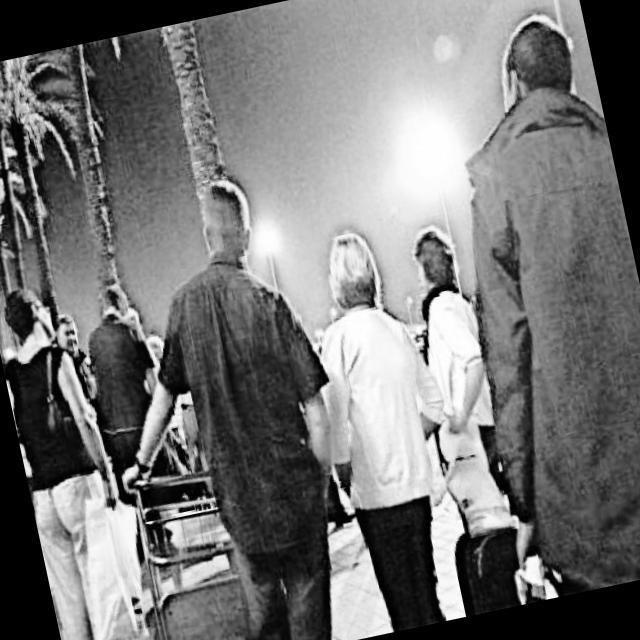Person: (64, 160, 379, 640), (409, 0, 640, 602), (284, 217, 490, 637), (0, 269, 155, 640), (391, 206, 516, 516), (70, 270, 186, 482)
